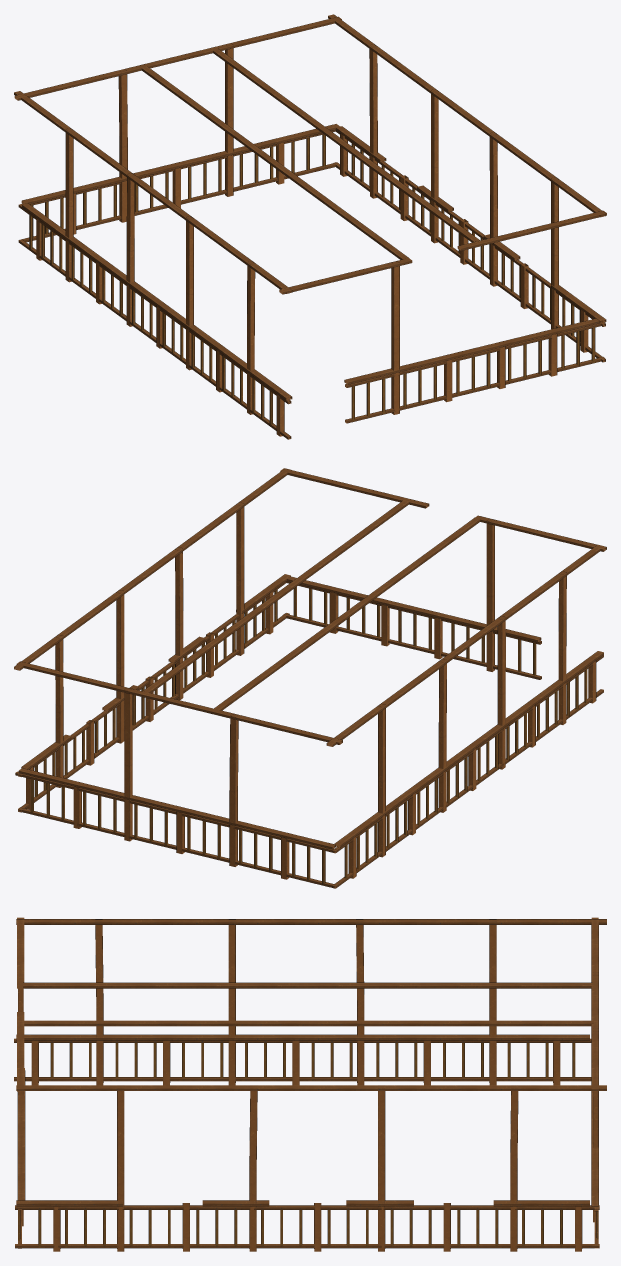
The model's file is WallParts.fbx.
3 views of the same model, one above another, from view 1: azimuth 30°, elevation 25°; view 2: azimuth 150°, elevation 25°; view 3: azimuth 270°, elevation 25° (orthographic). The views are drawn at different scales.
Visible parts, largest first — view 1: Wall Parts; view 2: Wall Parts; view 3: Wall Parts.
Part boxes in pixels (x1,y1,x2,y2): Wall Parts: (14, 14, 606, 439); Wall Parts: (14, 468, 606, 888); Wall Parts: (14, 917, 606, 1251).
Bounding box in the file's own units: 933 × 413 × 1357.
